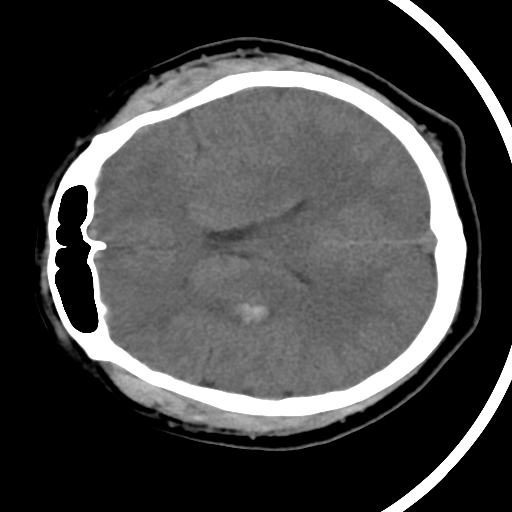a: (201, 286, 297, 334)
